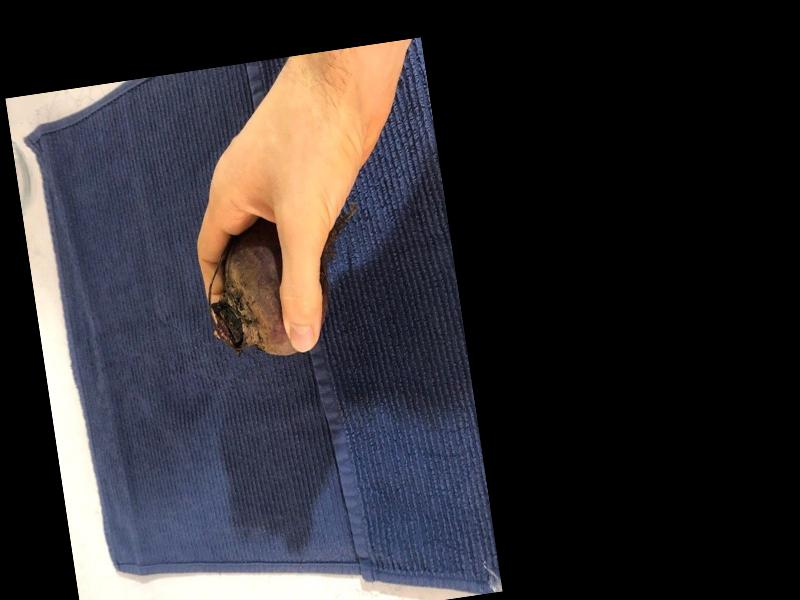Beet: (199, 207, 379, 366)
